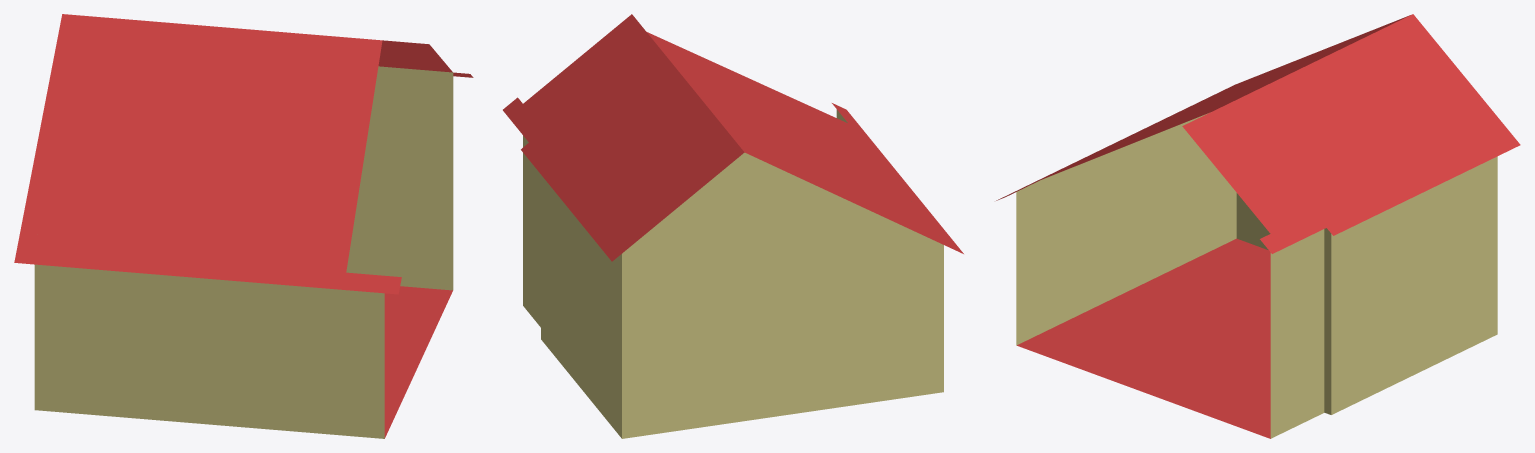
3 renders of one model, left to right at view 1: azimuth 30°, elevation 25°; view 2: azimuth 150°, elevation 25°; view 3: azimuth 270°, elevation 25°, orthographic. The views are drawn at different scales.
Size of the model in its own units: 23.73 by 24.05 by 14.1.
